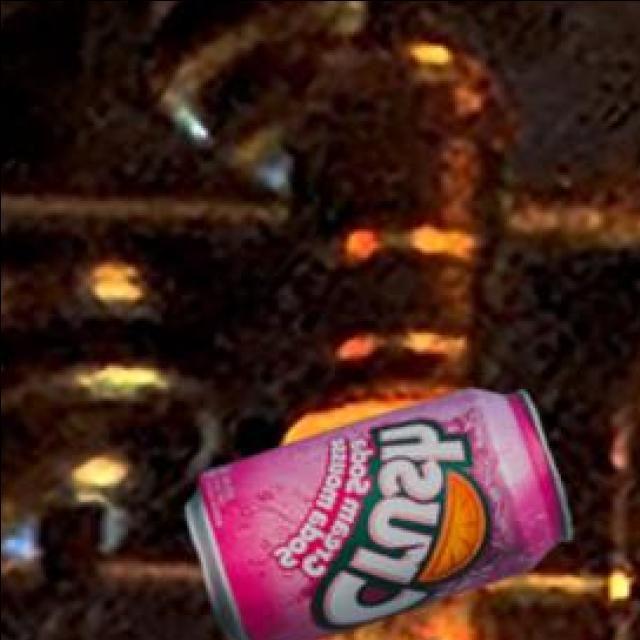logam: (189, 385, 575, 640)
